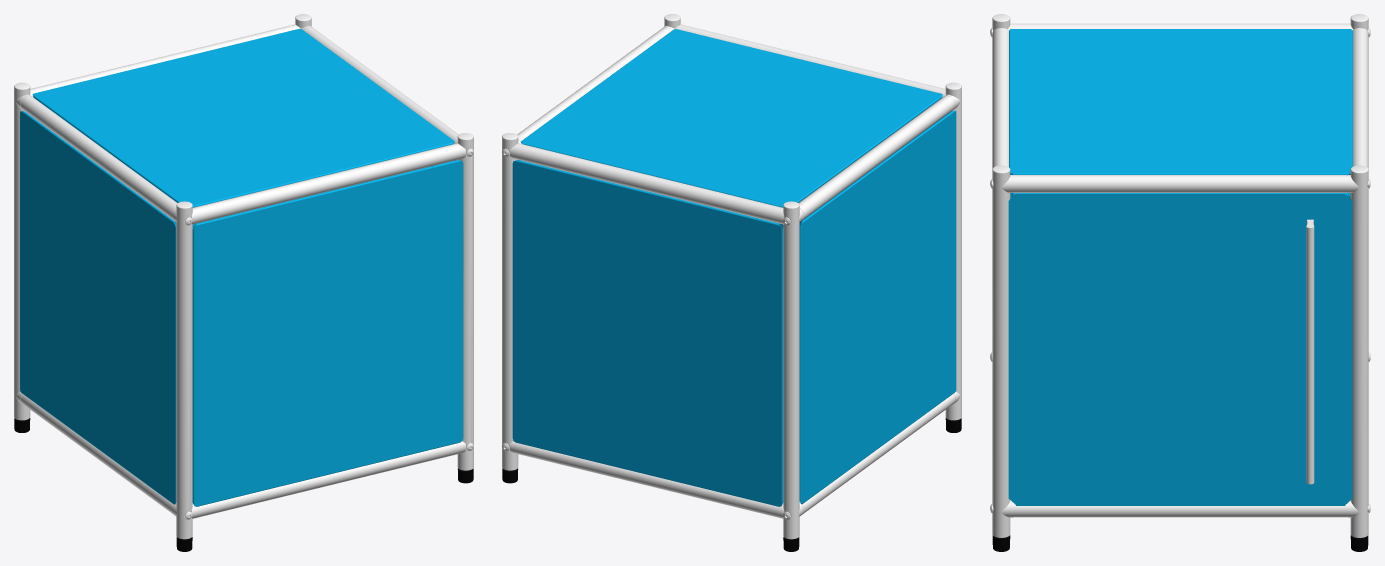
Rendered from 40x40x40-2-5-blue_optimized_optimized.glb.
3 views of the same model, side by side, from view 1: azimuth 30°, elevation 25°; view 2: azimuth 150°, elevation 25°; view 3: azimuth 270°, elevation 25° (orthographic). The views are drawn at different scales.
Parts seen in each view (by area): view 1: 直角鐵板-40x40-5 - 零件, 反-鐵管-40-354..4-1 - 零件, 圓形腳+調整器-1 - 零件; view 2: 直角鐵板-40x40-5 - 零件, 反-鐵管-40-354..4-1 - 零件, 圓形腳+調整器-1 - 零件; view 3: 直角鐵板-40x40-5 - 零件, 反-鐵管-40-354..4-1 - 零件, 圓形腳+調整器-1 - 零件.
Boxes of the visible parts, x1,y1,x2,y2 form: 直角鐵板-40x40-5 - 零件: (20,28,463,506); 反-鐵管-40-354..4-1 - 零件: (14,14,473,539); 圓形腳+調整器-1 - 零件: (14,418,473,551); 直角鐵板-40x40-5 - 零件: (512,29,956,506); 反-鐵管-40-354..4-1 - 零件: (502,14,961,539); 圓形腳+調整器-1 - 零件: (502,418,961,551); 直角鐵板-40x40-5 - 零件: (1008,29,1352,505); 反-鐵管-40-354..4-1 - 零件: (990,14,1370,537); 圓形腳+調整器-1 - 零件: (992,535,1368,551).
Bounding box in the file's own units: 0.4203 × 0.4453 × 0.4035.
